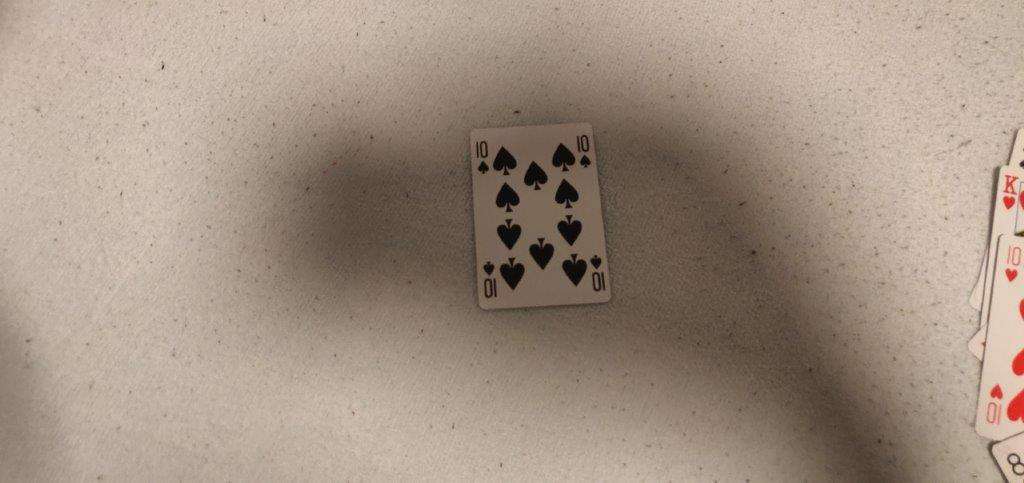10H: (1003, 244, 1024, 287)
10S: (472, 139, 494, 176), (574, 131, 594, 170)
KH: (1002, 173, 1020, 212)
